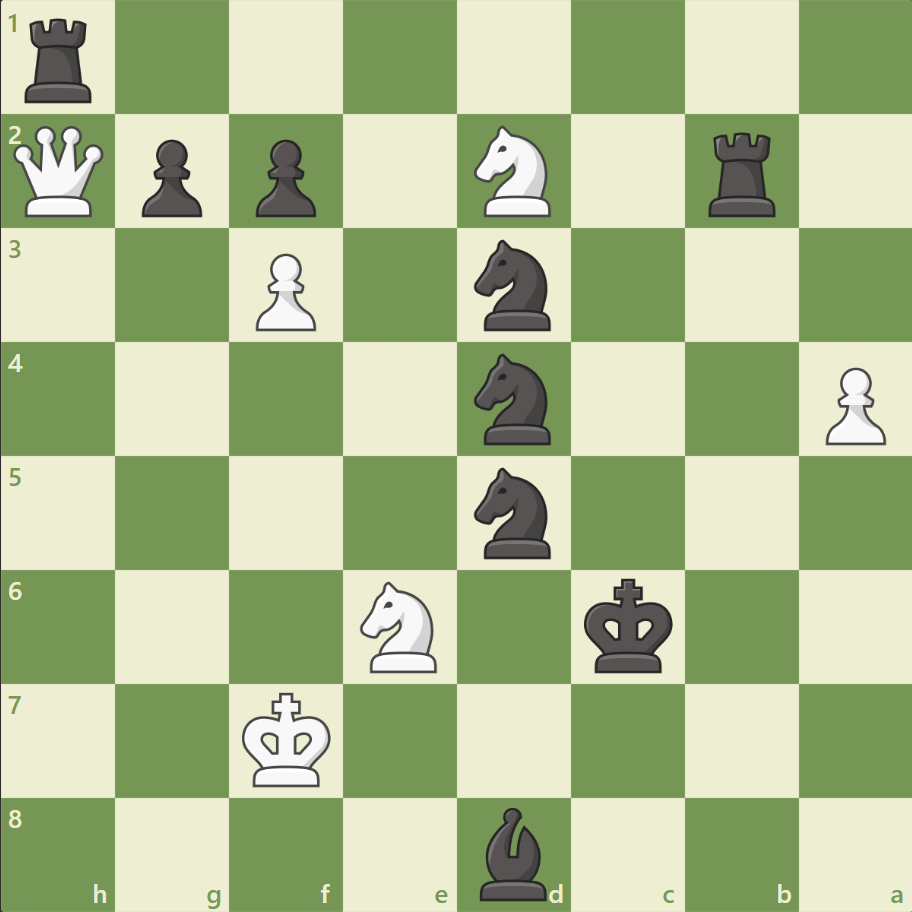K: (238, 685, 338, 793)
N: (351, 575, 449, 677), (465, 121, 562, 223)
P: (247, 246, 322, 337), (815, 359, 889, 450)
Q: (10, 122, 109, 222)
b: (471, 801, 555, 904)
k: (579, 571, 679, 679)
n: (465, 461, 562, 564), (465, 234, 562, 337), (465, 348, 562, 450)
p: (247, 132, 322, 223), (133, 132, 208, 223)
r: (700, 125, 783, 222), (19, 12, 102, 109)
